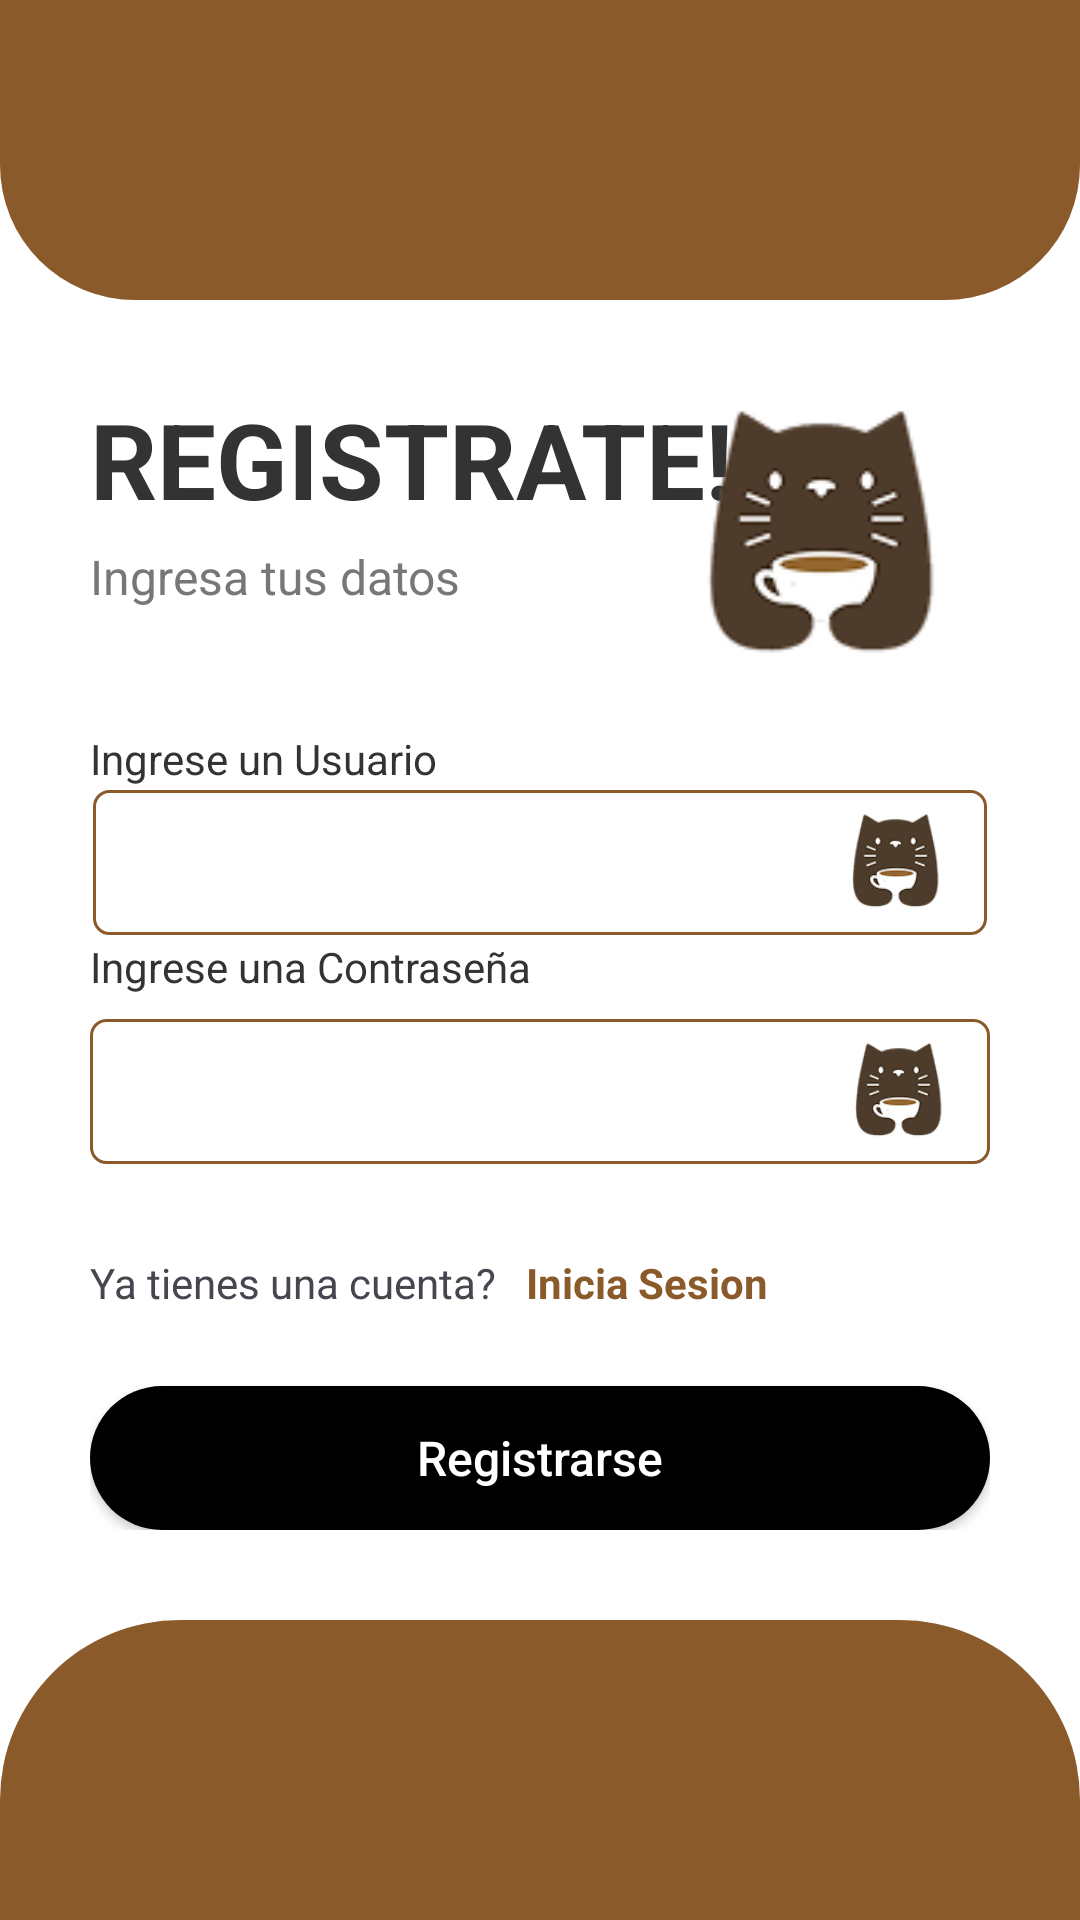

Where icons sit on this 1080×1920 app screen, as (left=x1, top=y1, right=x2, bottom=y2):
profile cat: (left=709, top=411, right=934, bottom=652), (left=852, top=814, right=939, bottom=907), (left=855, top=1043, right=942, bottom=1136)
